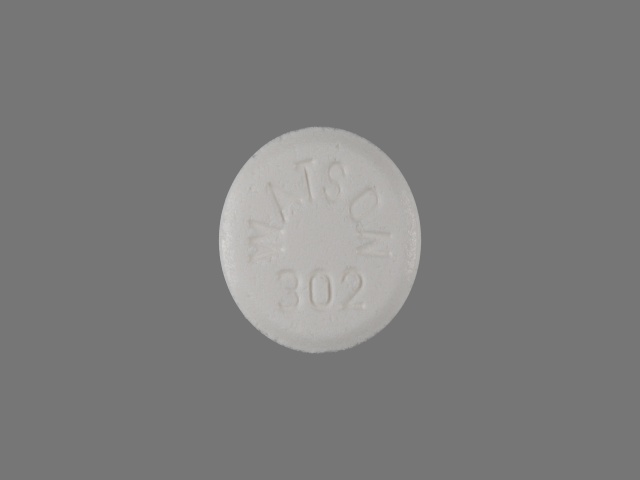0: (304, 264, 333, 319)
2: (335, 267, 369, 319)
3: (273, 265, 301, 319)
A: (260, 178, 305, 222)
N: (352, 223, 396, 265)
O: (344, 186, 380, 224)
S: (319, 156, 347, 209)
T: (289, 158, 320, 205)
W: (242, 215, 286, 264)
